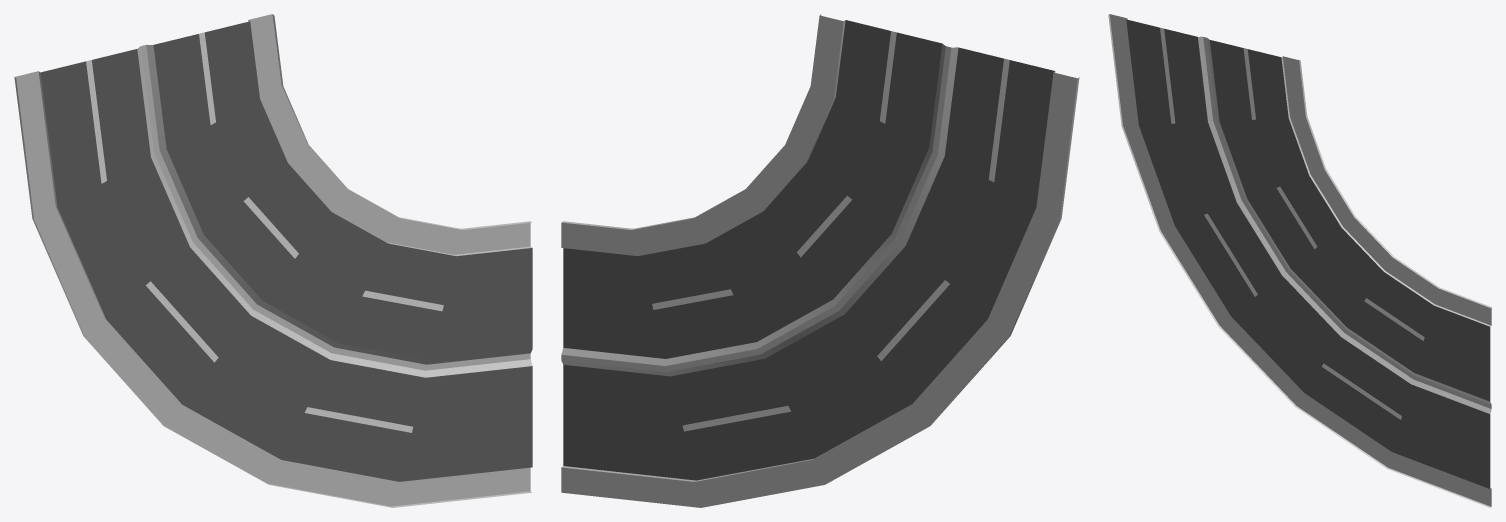
Rendered from RoadDoubleTurnRight.fbx.
The picture shows the model from 3 angles, left to right: view 1: azimuth 30°, elevation 25°; view 2: azimuth 150°, elevation 25°; view 3: azimuth 330°, elevation 25°; orthographic projection. The views are drawn at different scales.
Visible parts, largest first — view 1: r_double_turn_right_long; view 2: r_double_turn_right_long; view 3: r_double_turn_right_long.
Part boxes in pixels (<box>): r_double_turn_right_long: <box>14,14,532,507</box>; r_double_turn_right_long: <box>561,14,1079,507</box>; r_double_turn_right_long: <box>1108,14,1491,507</box>.
Size of the model in its own units: 1600 by 1600 by 10.
